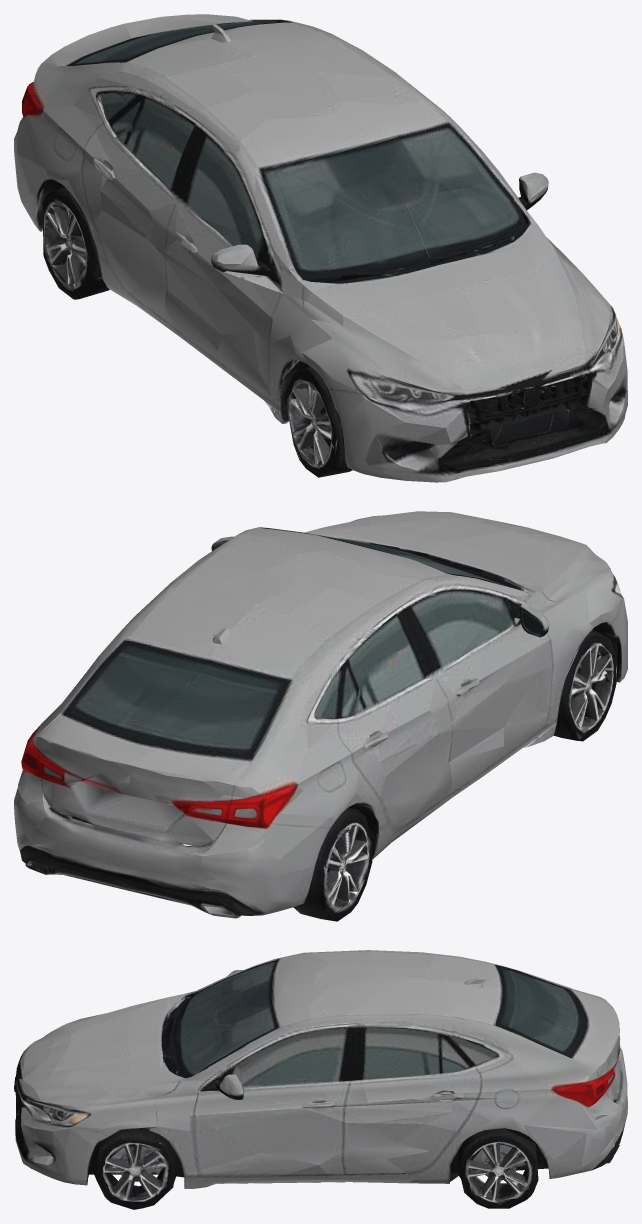
File: compacte.glb
3 renders of one model, top to bottom at view 1: azimuth 30°, elevation 25°; view 2: azimuth 150°, elevation 25°; view 3: azimuth 270°, elevation 25°, orthographic. The views are drawn at different scales.
Visible parts, largest first — view 1: body, wheel_fr, wheel_rr; view 2: body, wheel_rr, wheel_fr; view 3: body, wheel_rl, wheel_fl.
Part boxes in pixels (left/top/right/bottom): body: left=14, top=14, right=627, bottom=482; wheel_fr: left=268, top=350, right=356, bottom=477; wheel_rr: left=30, top=168, right=109, bottom=299; body: left=14, top=511, right=627, bottom=918; wheel_rr: left=293, top=790, right=379, bottom=921; wheel_fr: left=549, top=610, right=627, bottom=741; body: left=14, top=950, right=627, bottom=1188; wheel_rl: left=433, top=1115, right=553, bottom=1208; wheel_fl: left=82, top=1121, right=190, bottom=1209.
Bounding box in the file's own units: 2.1 × 1.47 × 4.5.
Materials: 1 (1 with a texture image).
